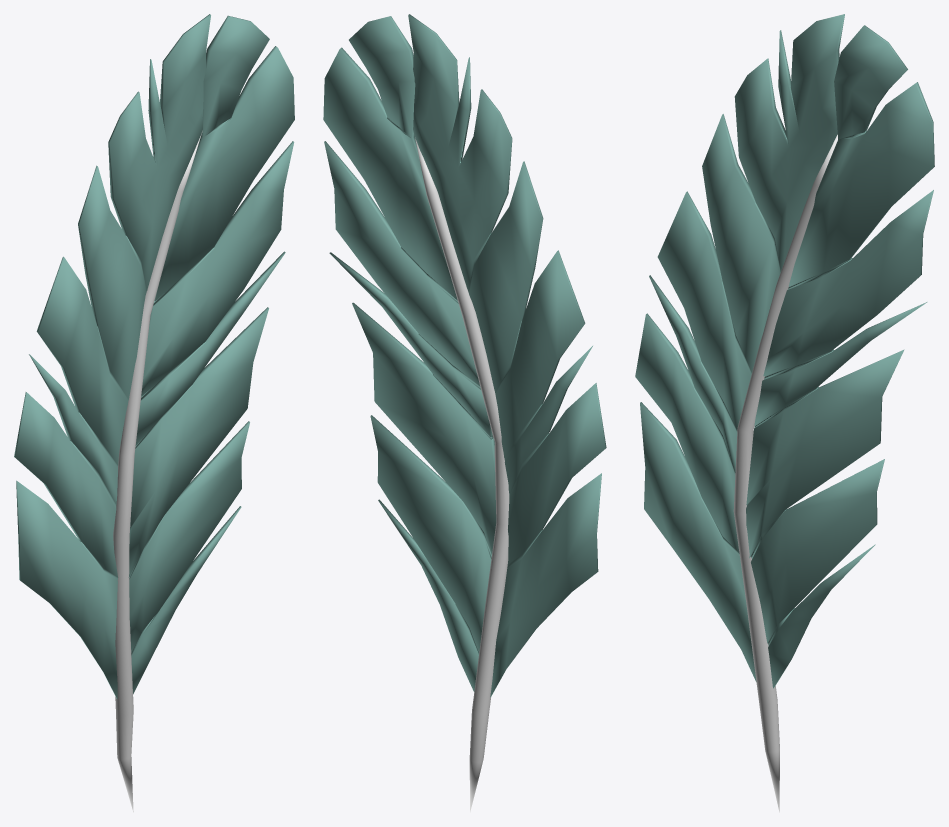
The model's file is fjer.fbx.
The picture shows the model from 3 angles, left to right: view 1: azimuth 30°, elevation 25°; view 2: azimuth 150°, elevation 25°; view 3: azimuth 330°, elevation 25°; orthographic projection. The views are drawn at different scales.
Parts seen in each view (by area): view 1: Feather_high, FeatherCore_high; view 2: Feather_high, FeatherCore_high; view 3: Feather_high, FeatherCore_high.
Part boxes in pixels (left/top/right/bottom): Feather_high: left=14, top=14, right=294, bottom=698; FeatherCore_high: left=113, top=131, right=202, bottom=812; Feather_high: left=323, top=14, right=606, bottom=697; FeatherCore_high: left=415, top=137, right=509, bottom=812; Feather_high: left=635, top=14, right=934, bottom=688; FeatherCore_high: left=733, top=134, right=837, bottom=812.
Bounding box in the file's own units: 39.12 × 104 × 5.2.
